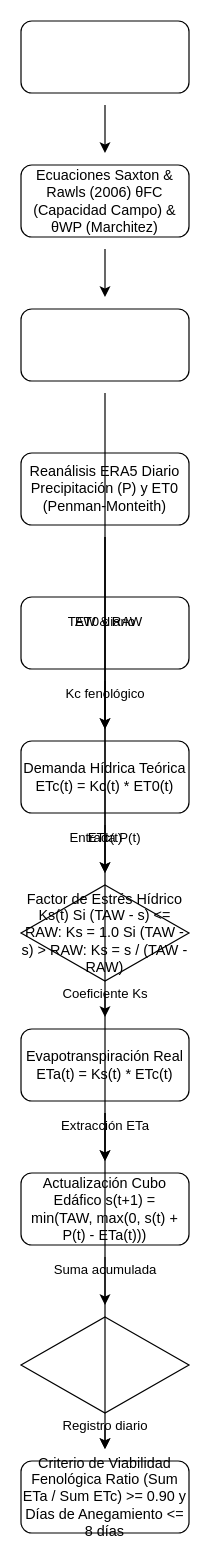
This 210x1561 diagram has some shape labels left out. The shapes that lost their labels are listed below. From the top down, each one's box as (x1, y1, x2, y2) in pixels, then its label:
(20, 20, 189, 93): Textura del Suelo (52% Arena, 26% Arcilla, 1.8% MO)
(20, 308, 189, 381): Capacidades de Almacenamiento TAW = 75.3 mm | RAW = 41.4 mm (p=0.55)
(20, 596, 189, 669): Curva Fenológica Maíz Blanco Kc = [0.40 -> 1.20 -> 0.60] (120 días)
(20, 1316, 189, 1413): ¿Anegamiento? [s + P - ETa - TAW] >= 15 mm/día
